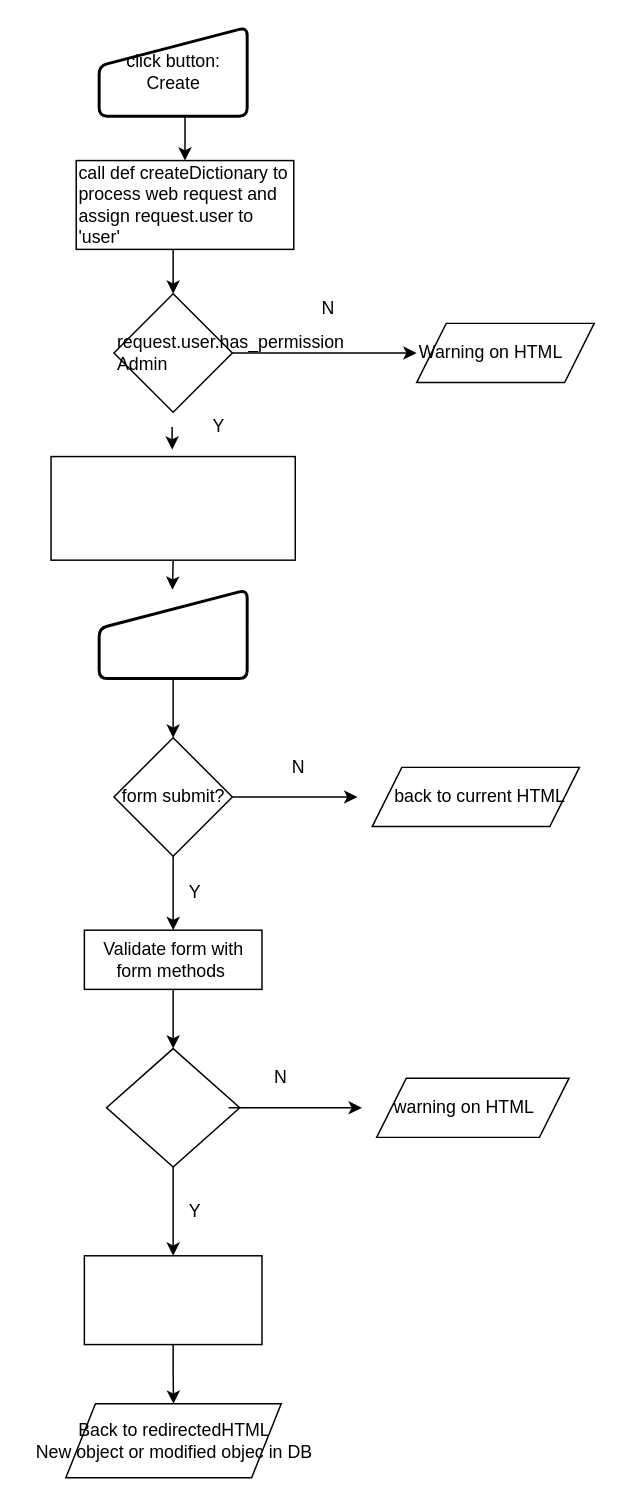
This 620x1504 diagram has some shape labels left out. Here are the shapes that lost their labels. From the top down, the box of each, then its label:
(50, 455, 295, 560): render: Create modalform with Dictionary_form
(97, 588, 248, 679): fill up form
(105, 1047, 240, 1167): form.is_valid()
(83, 1254, 262, 1345): Create new object, get request.user, and save in DB
